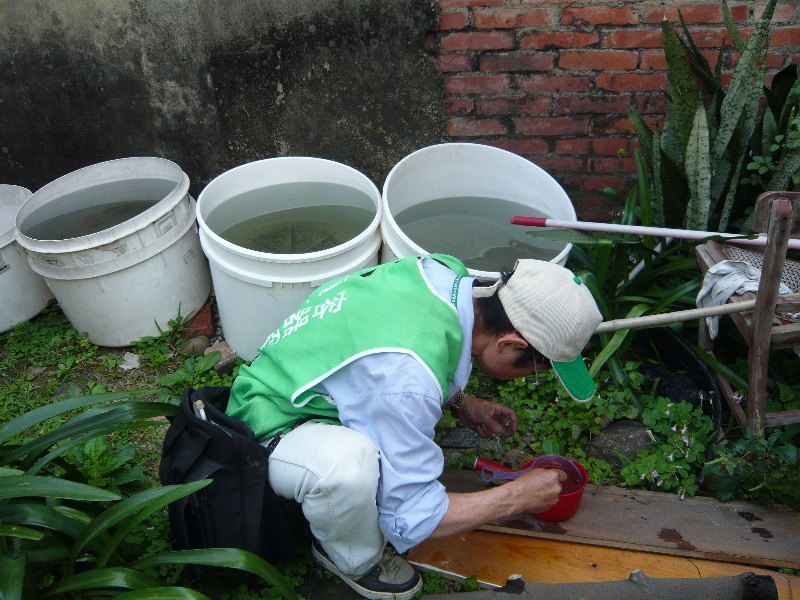bucket: (196, 154, 384, 363), (16, 154, 211, 347), (381, 142, 578, 265)
